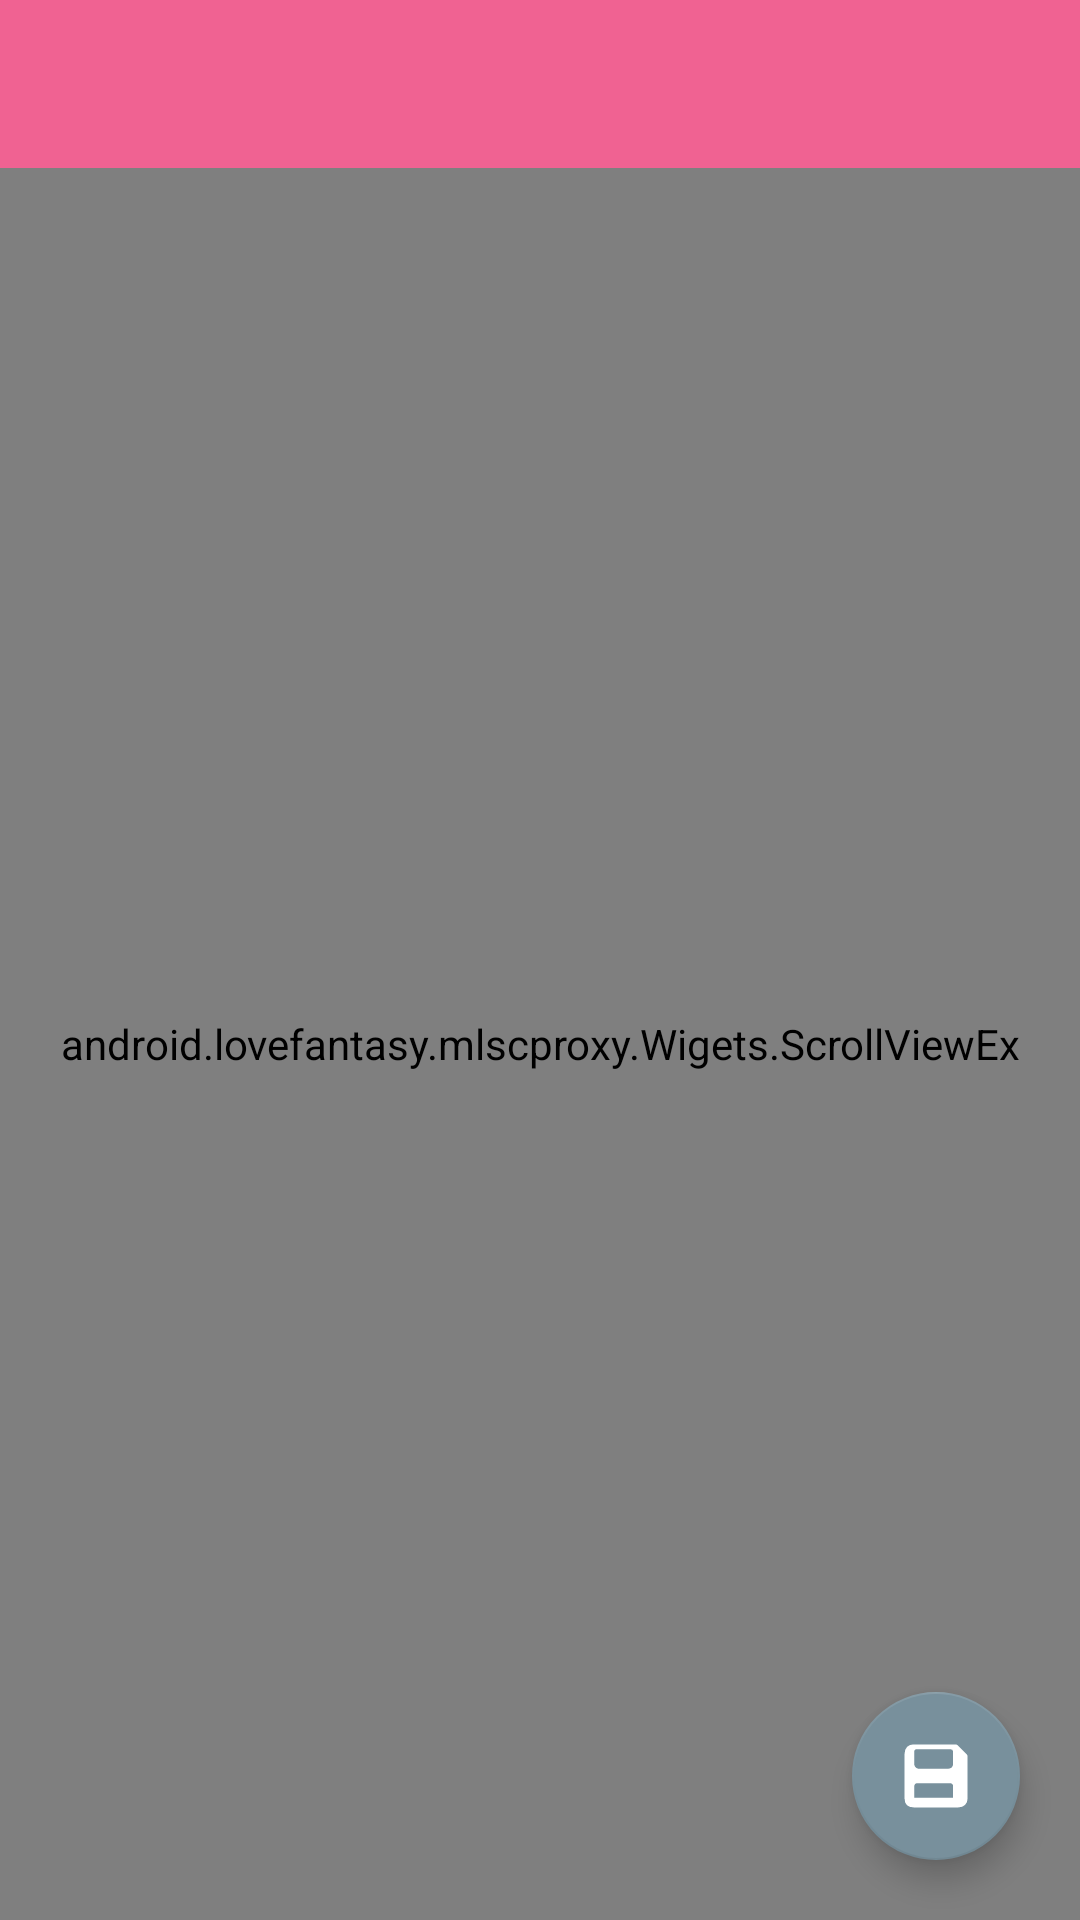

Named icons in this screenshot (1080 x 1920) and their bounding boxes, (x1, y1, x2, y2):
save: (852, 1692, 1020, 1858)
